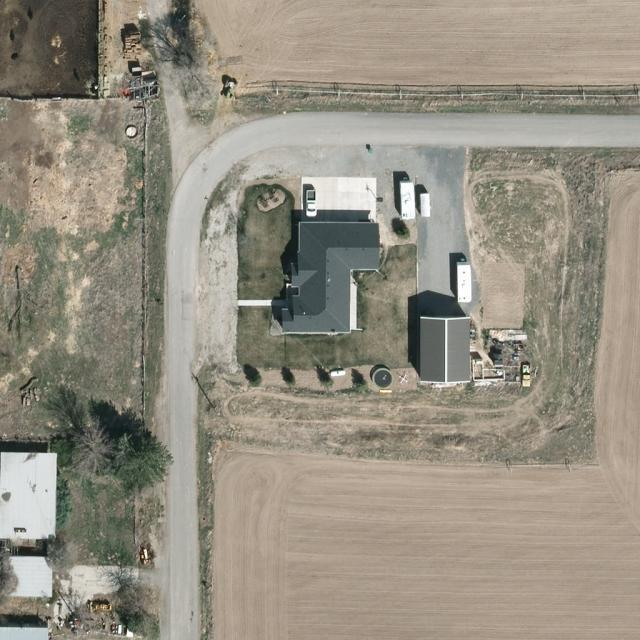vehicle: (304, 190, 318, 220), (520, 363, 532, 387)
